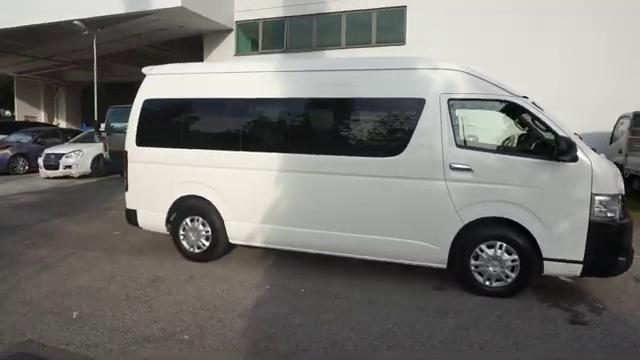Van: (128, 52, 633, 293)
